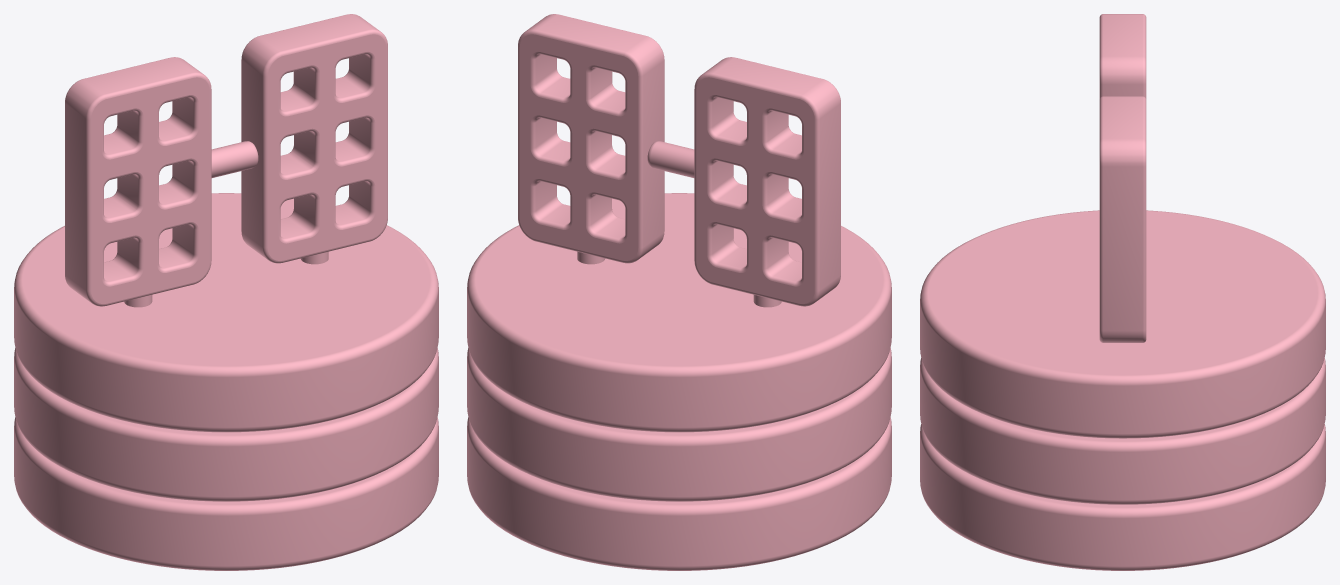
File: rds.glb
3 renders of one model, left to right at view 1: azimuth 30°, elevation 25°; view 2: azimuth 150°, elevation 25°; view 3: azimuth 270°, elevation 25°, orthographic. The views are drawn at different scales.
Visible parts, largest first — view 1: Disc 3, Left table, Right table, Disc 1, Disc 2, Table link; view 2: Disc 3, Left table, Right table, Disc 1, Disc 2, Table link; view 3: Disc 3, Disc 1, Disc 2, Right table, Left table.
Boxes of the visible parts, bbox=[...] form: Disc 3: bbox=[14, 193, 438, 432]; Left table: bbox=[65, 57, 211, 306]; Right table: bbox=[241, 14, 387, 263]; Disc 1: bbox=[14, 417, 438, 570]; Disc 2: bbox=[14, 348, 438, 501]; Table link: bbox=[211, 141, 258, 177]; Disc 3: bbox=[467, 193, 891, 432]; Left table: bbox=[694, 57, 840, 306]; Right table: bbox=[518, 14, 664, 263]; Disc 1: bbox=[467, 417, 891, 570]; Disc 2: bbox=[467, 348, 891, 501]; Table link: bbox=[647, 141, 694, 177]; Disc 3: bbox=[920, 210, 1325, 438]; Disc 1: bbox=[920, 424, 1325, 570]; Disc 2: bbox=[920, 358, 1325, 504]; Right table: bbox=[1099, 96, 1146, 342]; Left table: bbox=[1099, 14, 1146, 98].
Size of the model in its own units: 2 by 2.23 by 2.
